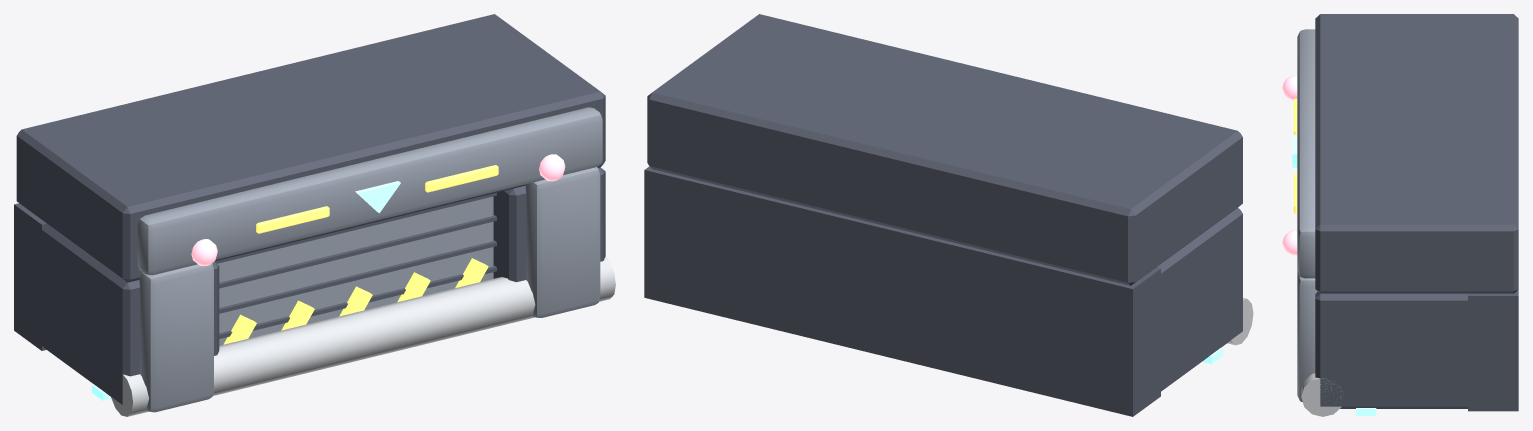
The model's file is gate.glb.
3 views of the same model, side by side, from view 1: azimuth 30°, elevation 25°; view 2: azimuth 150°, elevation 25°; view 3: azimuth 270°, elevation 25° (orthographic). The views are drawn at different scales.
Parts seen in each view (by area): view 1: gate, door; view 2: gate; view 3: gate.
Boxes of the visible parts, left/top/right/bottom form: gate: left=14, top=14, right=615, bottom=416; door: left=214, top=192, right=496, bottom=345; gate: left=644, top=14, right=1253, bottom=416; gate: left=1282, top=14, right=1518, bottom=416.
Size of the model in its own units: 2 by 0.825 by 0.93.
